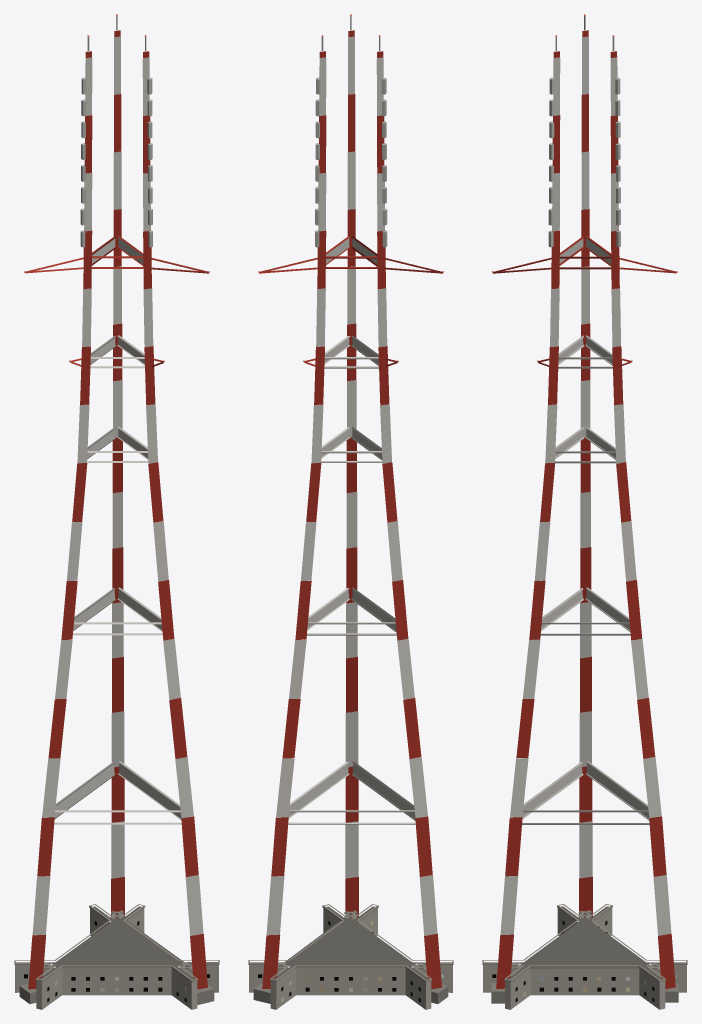
File: sutro_lod1.glb
3 renders of one model, left to right at view 1: azimuth 30°, elevation 25°; view 2: azimuth 150°, elevation 25°; view 3: azimuth 270°, elevation 25°, orthographic.
Parts seen in each view (by area): view 1: L1_paint, L1_concrete, L1_roof; view 2: L1_paint, L1_concrete, L1_roof; view 3: L1_paint, L1_concrete, L1_roof.
Part boxes in pixels (x1,y1,x2,y2): L1_paint: [25, 30, 208, 989]; L1_concrete: [14, 904, 219, 1009]; L1_roof: [16, 906, 217, 979]; L1_paint: [259, 30, 442, 989]; L1_concrete: [248, 904, 453, 1009]; L1_roof: [250, 906, 451, 979]; L1_paint: [493, 30, 676, 989]; L1_concrete: [482, 904, 687, 1009]; L1_roof: [484, 906, 685, 979].
Size of the model in its own units: 53.39 by 305 by 59.72.
